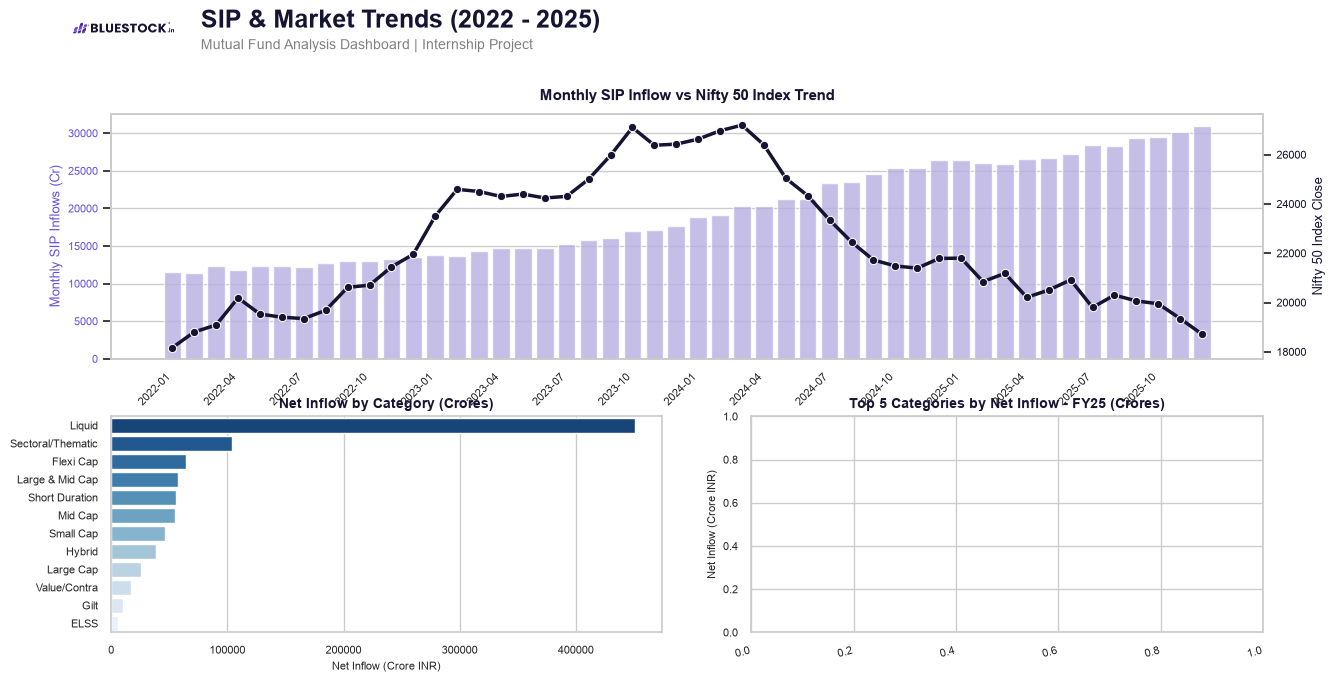

Layout of this report page (visuals, bound fields, positions):
{"tool":"powerbi","page":{"name":"SIP & Market Trends","canvas":[1280,720],"ordinal":3},"visuals":[{"type":"lineChart","fields":{"Category":["monthly_sip_inflows.month"],"Y":["monthly_sip_inflows.SIP Inflow"]},"box":[50,50,1180,300]},{"type":"treemap","fields":{"Category":["category_inflows.category"],"Y":["category_inflows.Net Inflow"]},"box":[50,370,570,300]},{"type":"barChart","fields":{"Category":["category_inflows.category"],"Y":["category_inflows.Net Inflow"]},"box":[650,370,580,300]}]}

Visuals, with their boxes on the page's 1280x720 design canvas (x1, y1, x2, y2). These are canvas units, not pixel positions in the 1337x682 screenshot, which may show the page scaled, cropped or inside an application window:
lineChart - monthly_sip_inflows.month x monthly_sip_inflows.SIP Inflow: select_region(50, 50, 1230, 350)
treemap - category_inflows.category x category_inflows.Net Inflow: select_region(50, 370, 620, 670)
barChart - category_inflows.category x category_inflows.Net Inflow: select_region(650, 370, 1230, 670)
